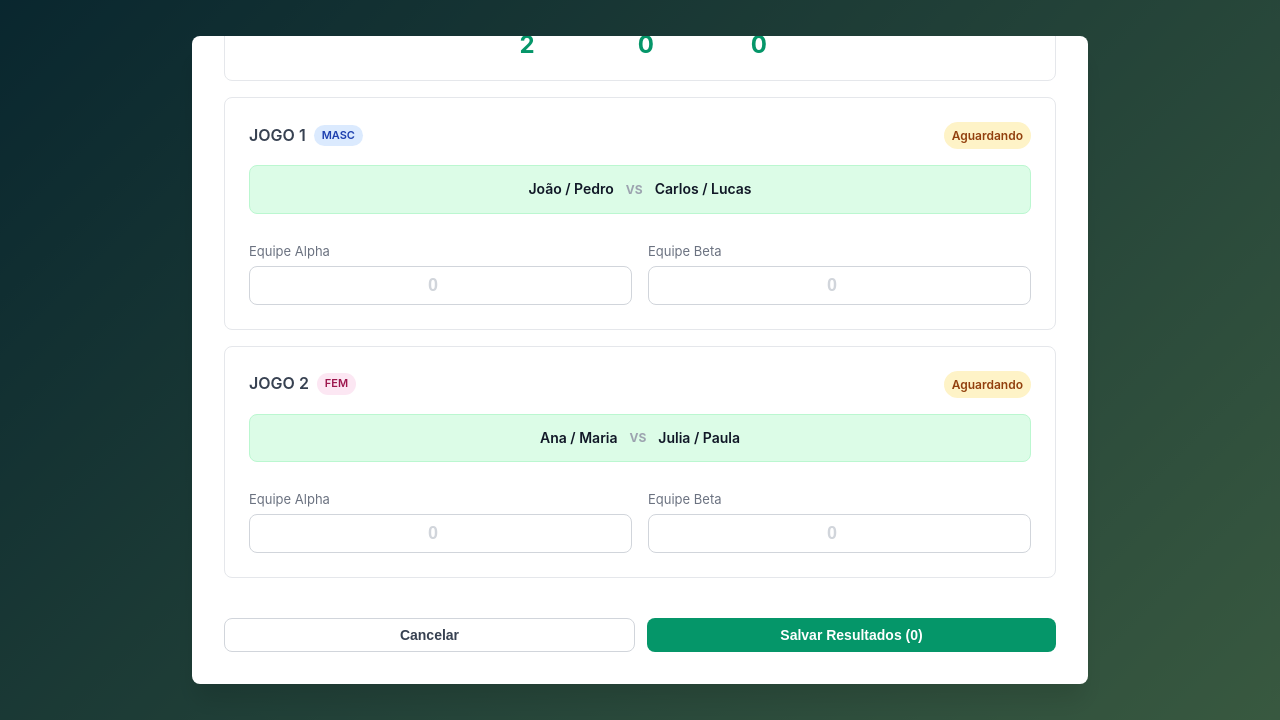
Test: ModalLancamentoResultadosLoteTeams › submissão › deve mostrar erro quando nenhum resultado preenchido
This screenshot has width=1280, height=720.
(page scrolled)
Click the button "Salvar Resultados (0)".
click(852, 635)  # box [647,618,1056,652]
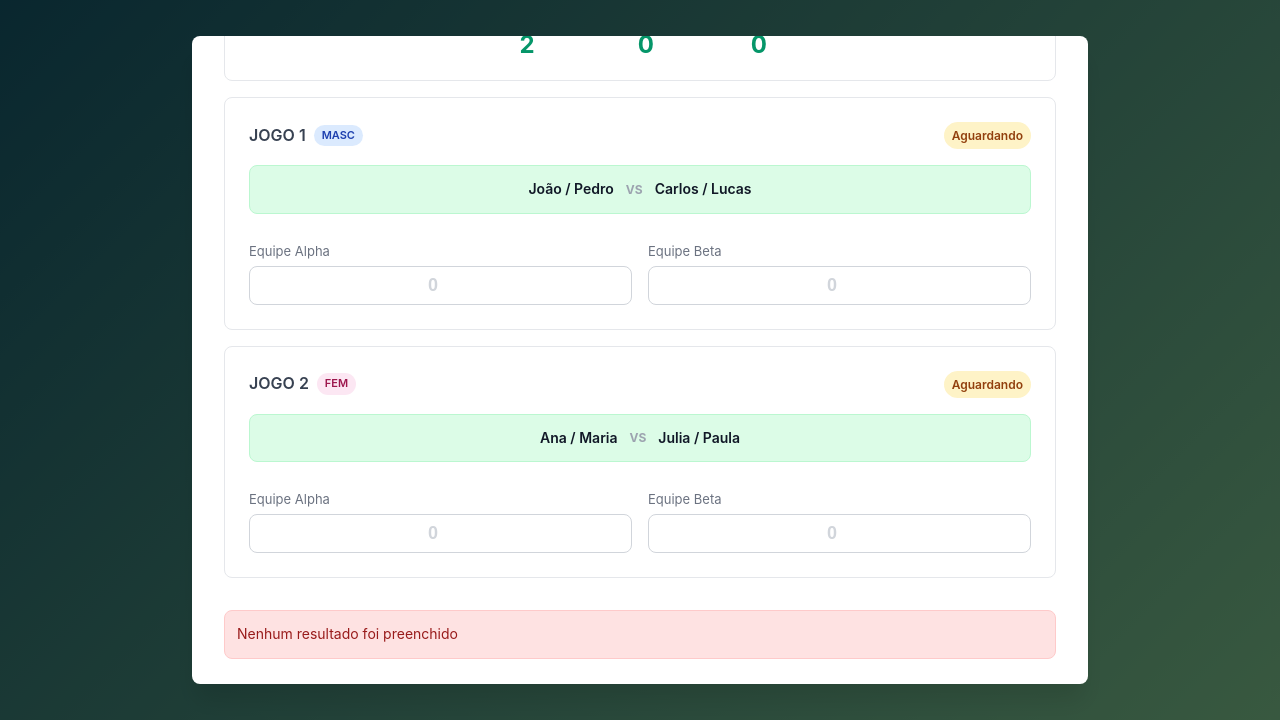
Expected: the text "Nenhum resultado foi preenchido" is shown, [237,625,458,642]
